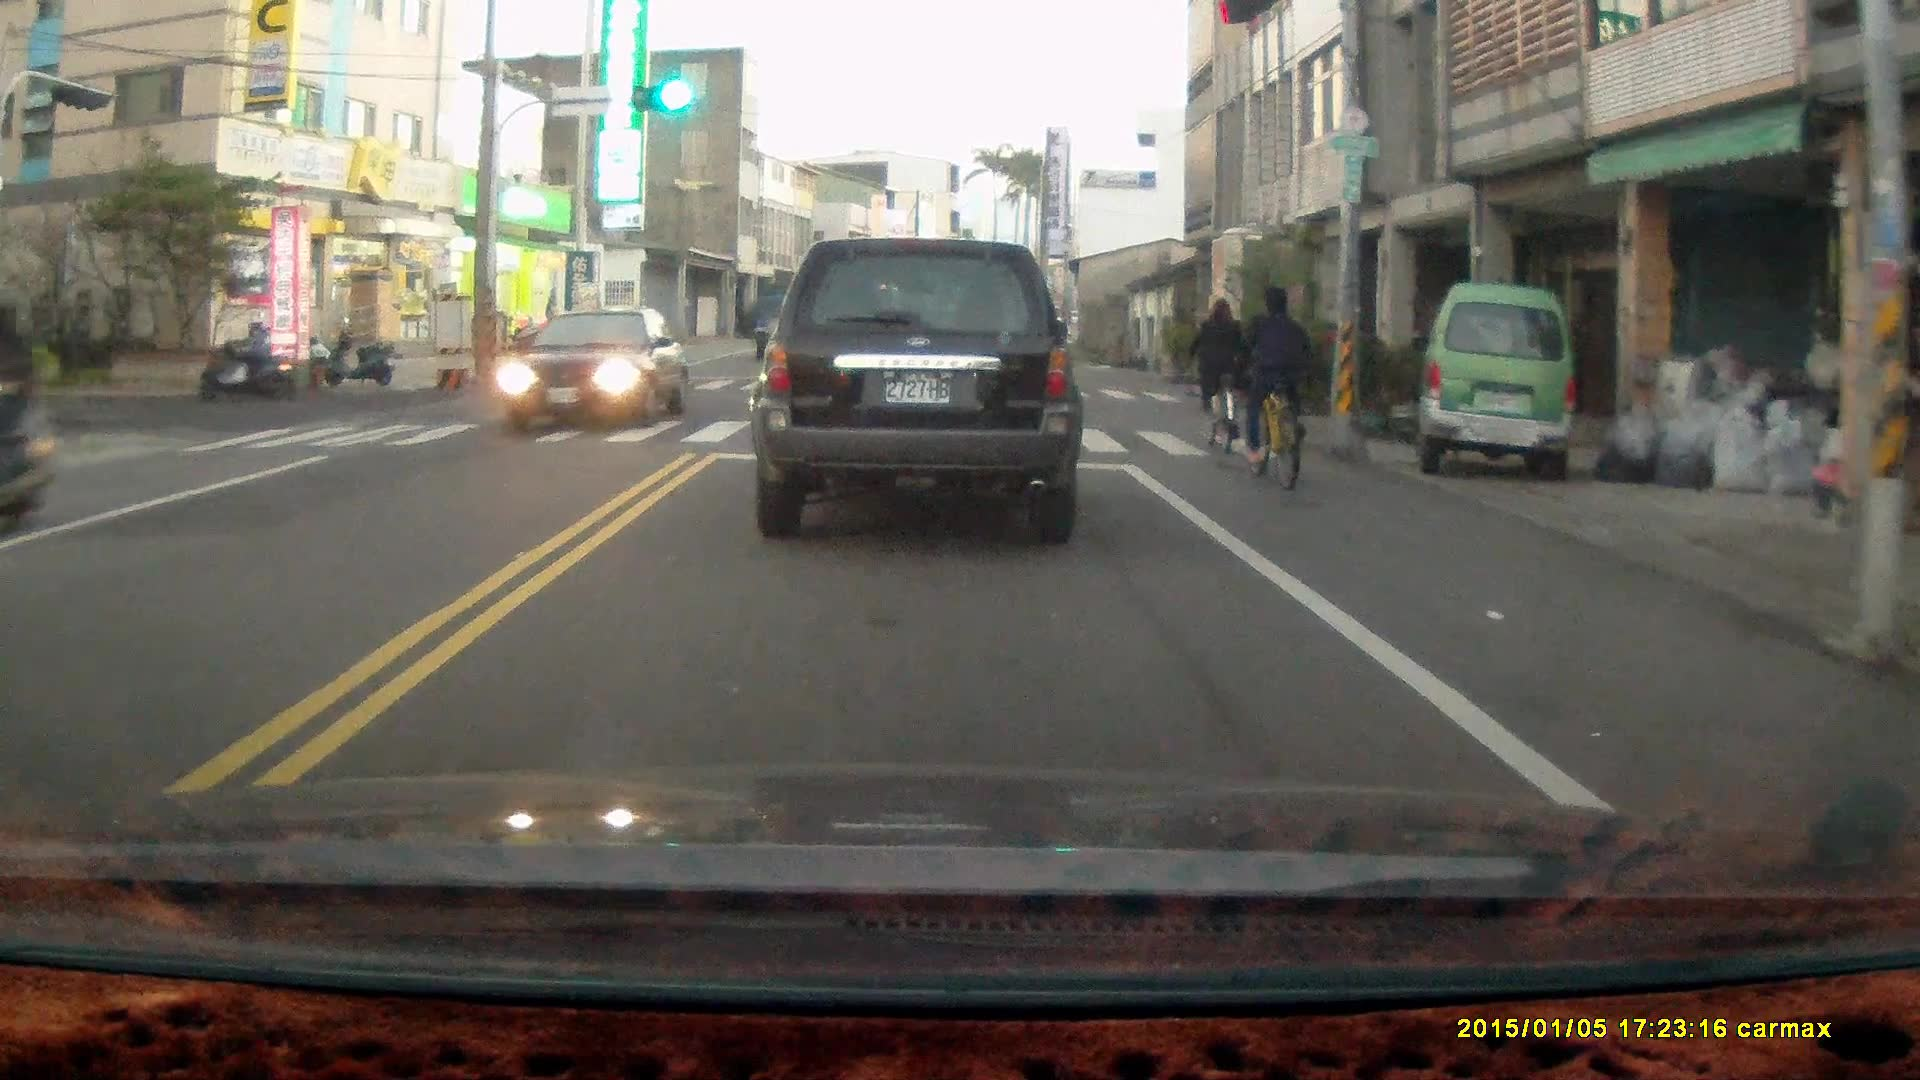rider: (1231, 278, 1313, 486), (0, 281, 59, 546), (1184, 298, 1247, 449), (196, 308, 288, 397)
vehicle: (752, 235, 1084, 549), (1418, 284, 1582, 485), (501, 302, 695, 431)
